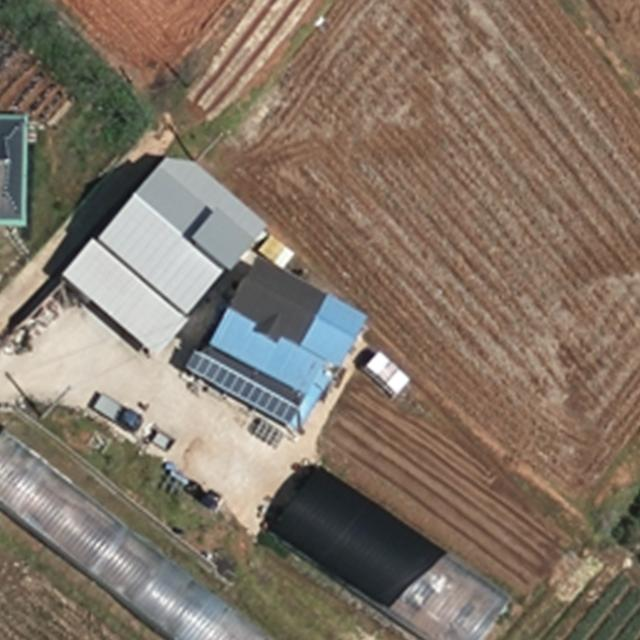panel: (182, 348, 299, 430)
